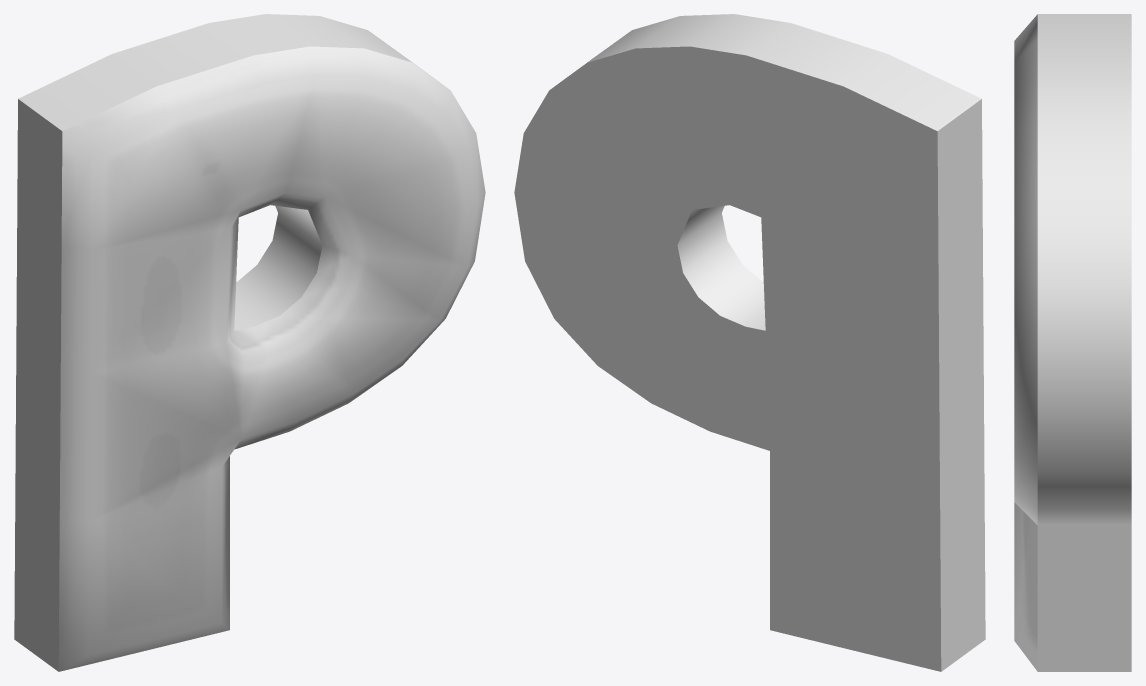
File: LettersStylized01_P.FBX
3 views of the same model, side by side, from view 1: azimuth 30°, elevation 25°; view 2: azimuth 150°, elevation 25°; view 3: azimuth 270°, elevation 25° (orthographic). The views are drawn at different scales.
Parts seen in each view (by area): view 1: LettersStylized01_P; view 2: LettersStylized01_P; view 3: LettersStylized01_P.
Part boxes in pixels (x1=…): LettersStylized01_P: x1=14, y1=14, x2=485, y2=671; LettersStylized01_P: x1=514, y1=14, x2=985, y2=671; LettersStylized01_P: x1=1014, y1=14, x2=1131, y2=671.
Size of what is drawn, in the model's own units: 0.3778 by 0.4812 by 0.085.
